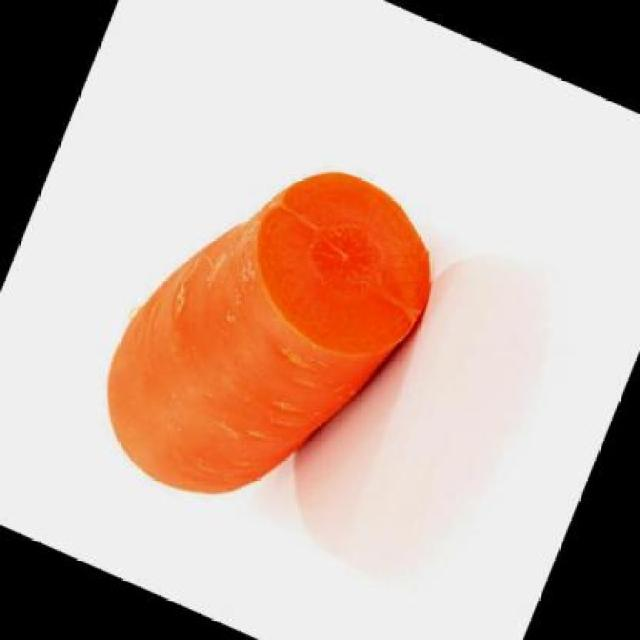carrot: (76, 113, 459, 555)
